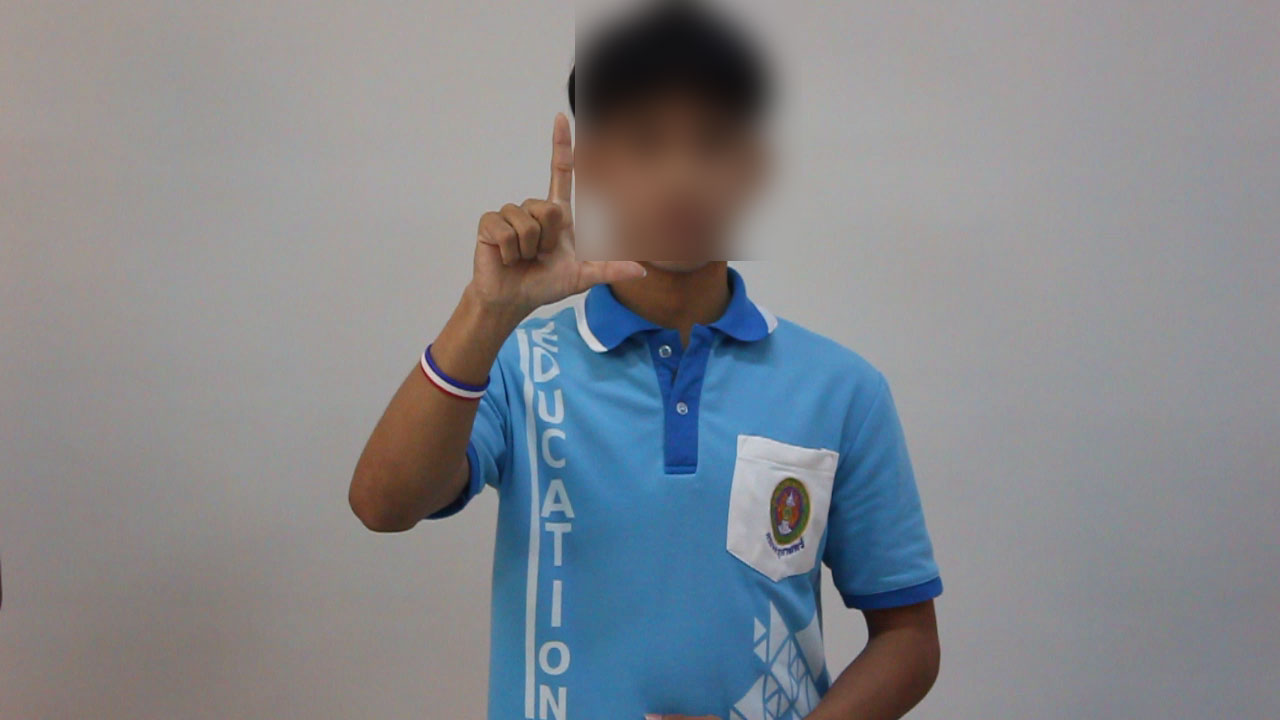lor: (477, 106, 653, 325)
